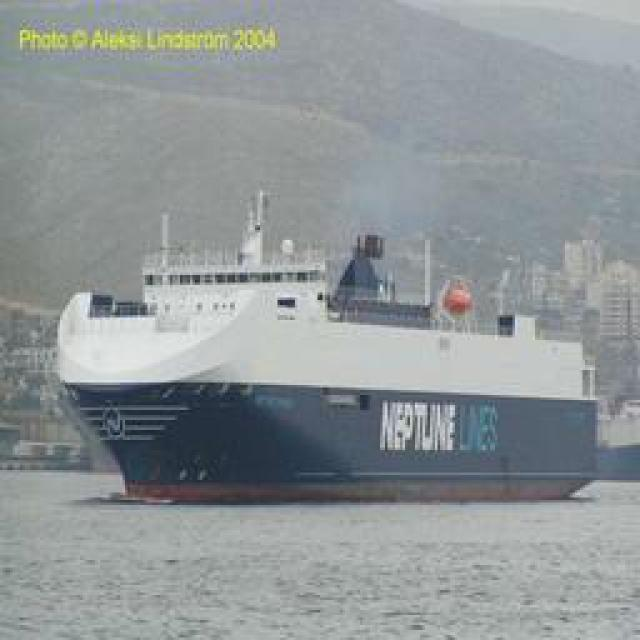Ship: (68, 176, 603, 496)
